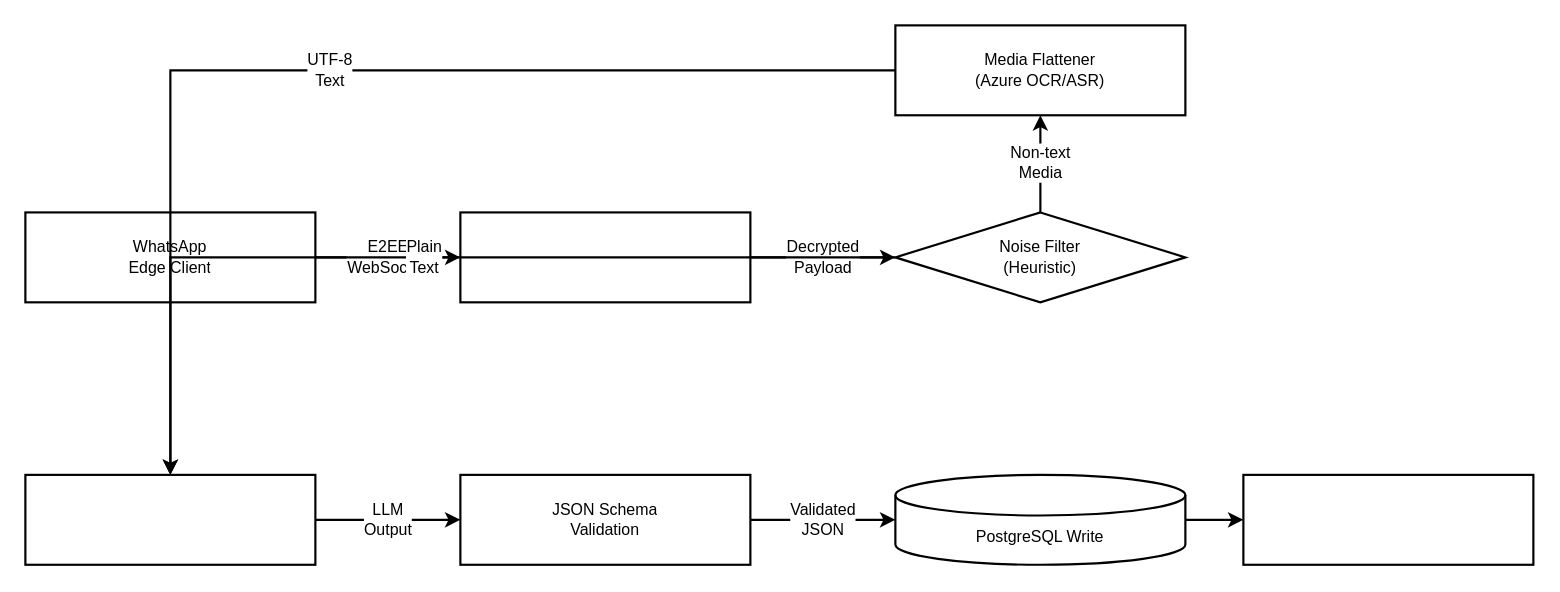
The diagram is 1560 pixels wide and 592 high, and some of its shapes have lost their labels. The centre of each missing label's shape, as x and y in pixels:
Scheduler: point 1388,519
Signal Protocol Decryption: point 605,257
UTC-Anchored LLM Inference: point 170,519
